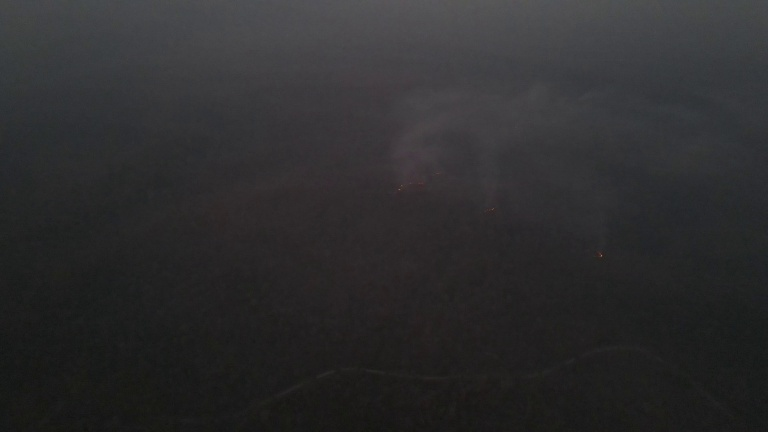fire: (596, 250, 608, 262), (486, 202, 499, 212), (414, 179, 426, 189), (433, 169, 445, 179), (395, 182, 406, 192)
smoke: (393, 76, 546, 208)
